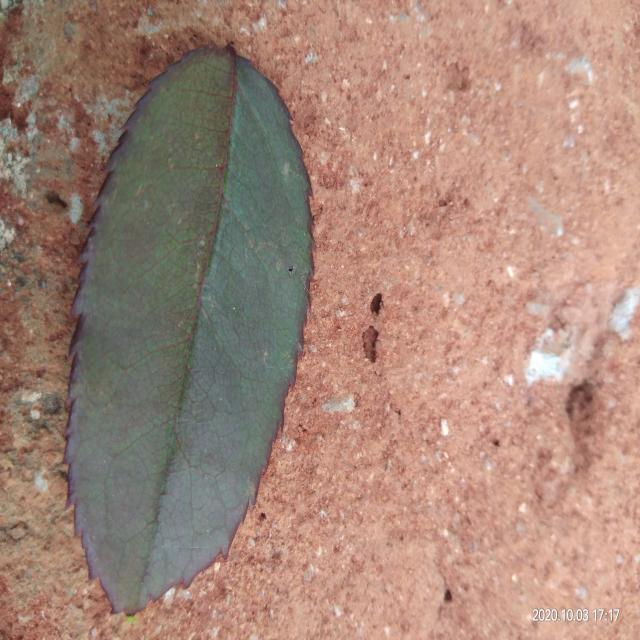rose: (65, 47, 314, 613)
